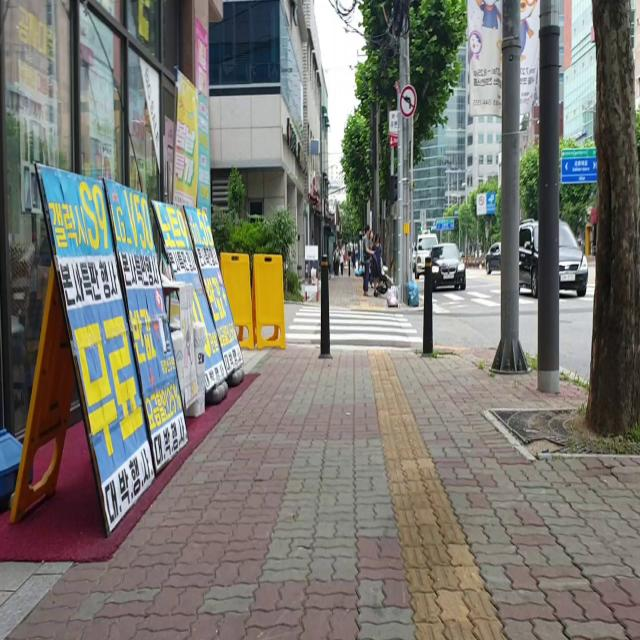횡단보도: (285, 305, 424, 351)
